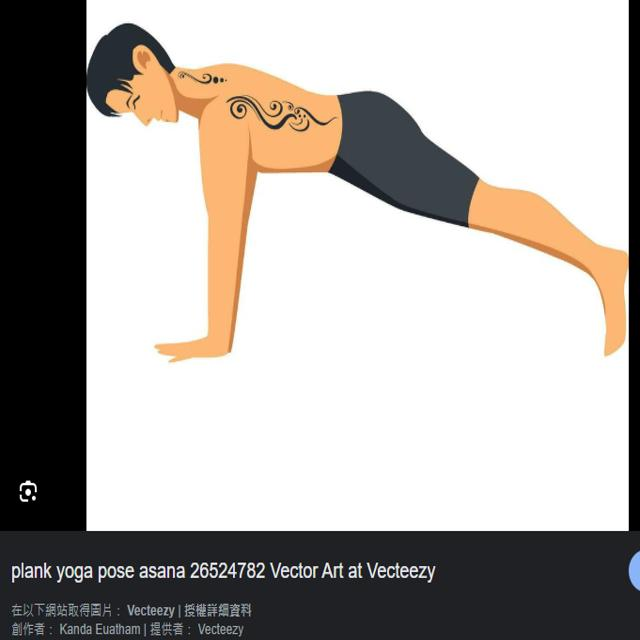Plank_Pose: (85, 14, 633, 363)
